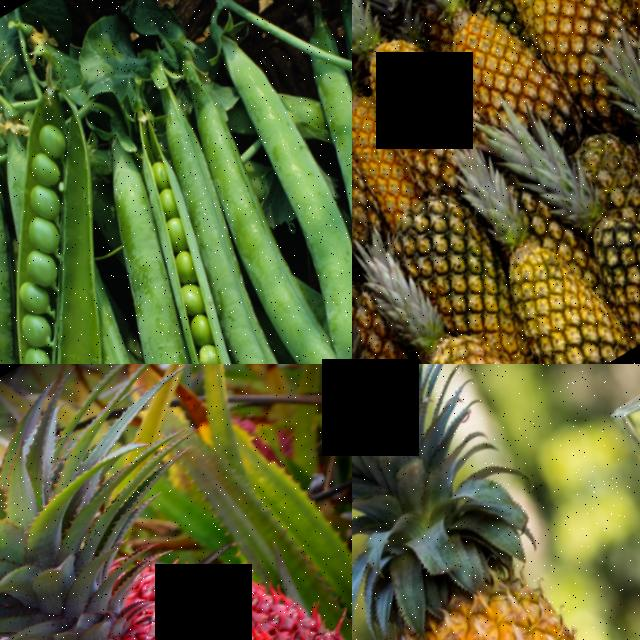peas: (92, 162, 325, 364), (0, 204, 116, 364), (4, 115, 105, 230)
pineapple: (352, 431, 640, 640), (0, 534, 312, 640), (472, 193, 634, 364), (352, 5, 484, 169), (422, 0, 557, 129), (352, 69, 445, 241), (560, 175, 640, 362), (476, 0, 617, 82), (352, 72, 405, 279), (407, 305, 554, 364), (352, 317, 465, 364)
